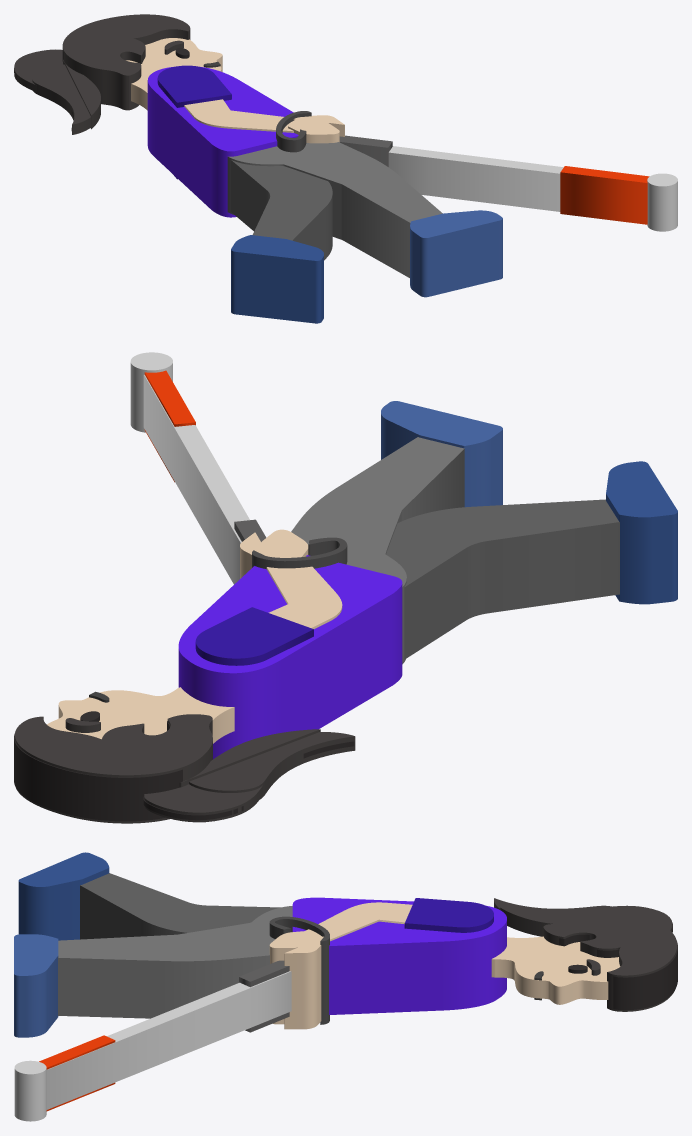
Rendered from emoji_u1f469_1f3fb_200d_1f9af_200d_27a1.glb.
The picture shows the model from 3 angles, top to bottom: view 1: azimuth 30°, elevation 25°; view 2: azimuth 150°, elevation 25°; view 3: azimuth 270°, elevation 25°; orthographic projection. The views are drawn at different scales.
Visible parts, largest first — view 1: emoji_u1f469_1f3fb_200d_1f9af_200d_27a1; view 2: emoji_u1f469_1f3fb_200d_1f9af_200d_27a1; view 3: emoji_u1f469_1f3fb_200d_1f9af_200d_27a1.
Boxes of the visible parts, x1,y1,x2,y2 form: emoji_u1f469_1f3fb_200d_1f9af_200d_27a1: (14, 14, 677, 323); emoji_u1f469_1f3fb_200d_1f9af_200d_27a1: (14, 352, 677, 823); emoji_u1f469_1f3fb_200d_1f9af_200d_27a1: (14, 852, 677, 1121).
Bounding box in the file's own units: 0.0251 × 0.0046 × 0.0332.
